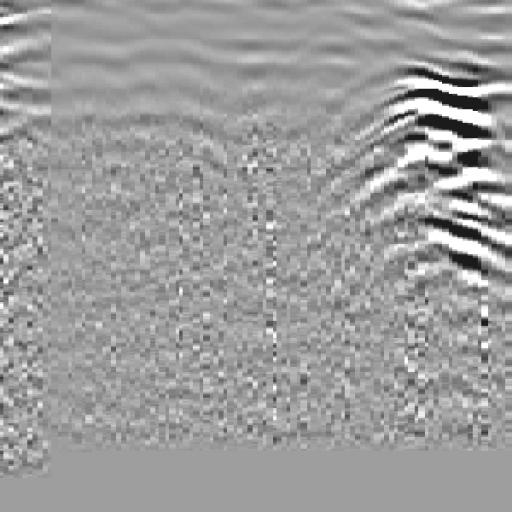metalic: (294, 40, 512, 345)
